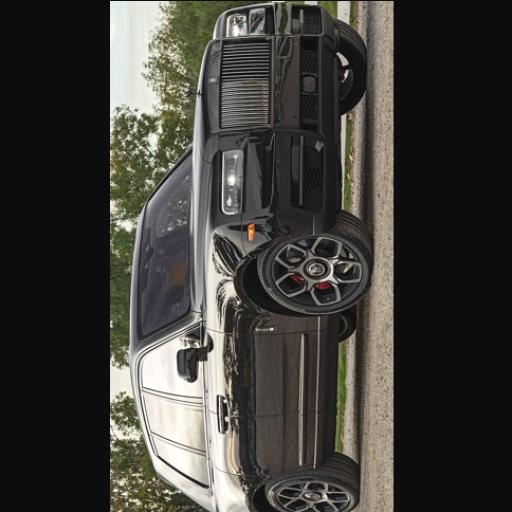suv: (129, 1, 372, 512)
